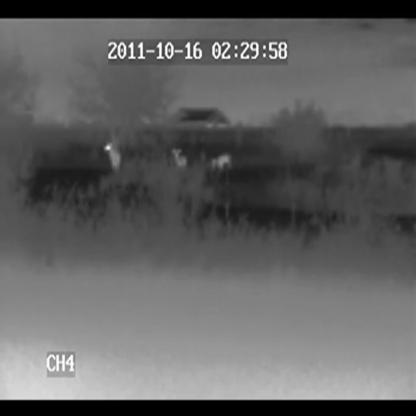rehkitze: (102, 141, 122, 170), (211, 154, 235, 172)
